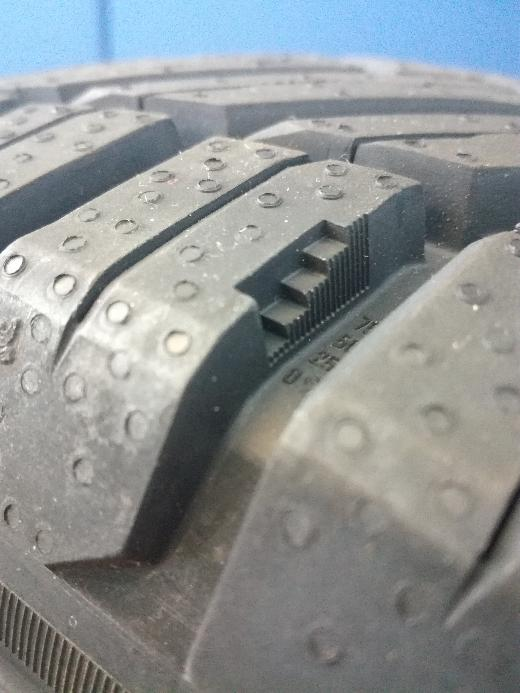temoin:100: (232, 211, 373, 370)
